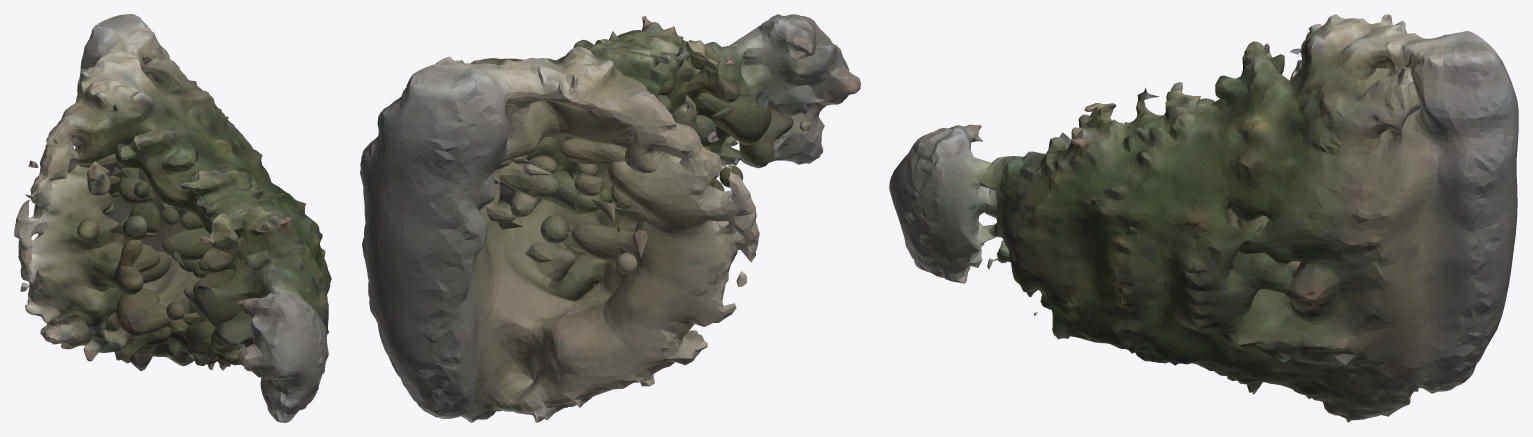
Rendered from IMG_SEG_39.glb.
3 views of the same model, side by side, from view 1: azimuth 30°, elevation 25°; view 2: azimuth 150°, elevation 25°; view 3: azimuth 270°, elevation 25° (orthographic). The views are drawn at different scales.
Size of the model in its own units: 0.9054 by 1.01 by 1.55.
Materials: 1 (1 with a texture image).
